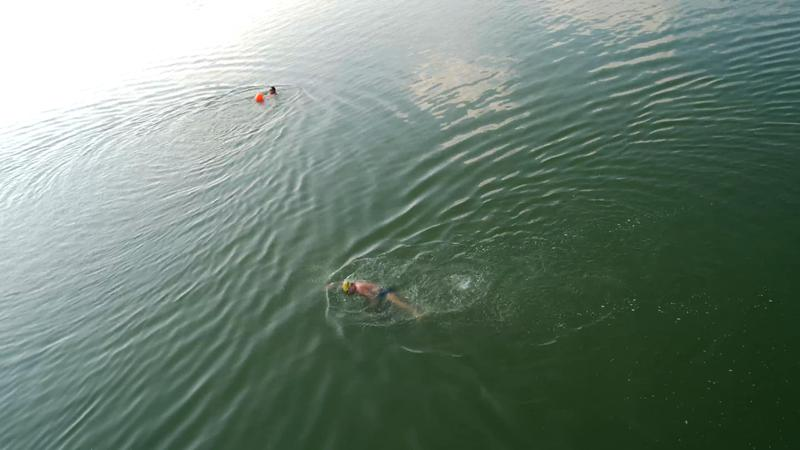swimmers: (340, 278, 420, 319)
